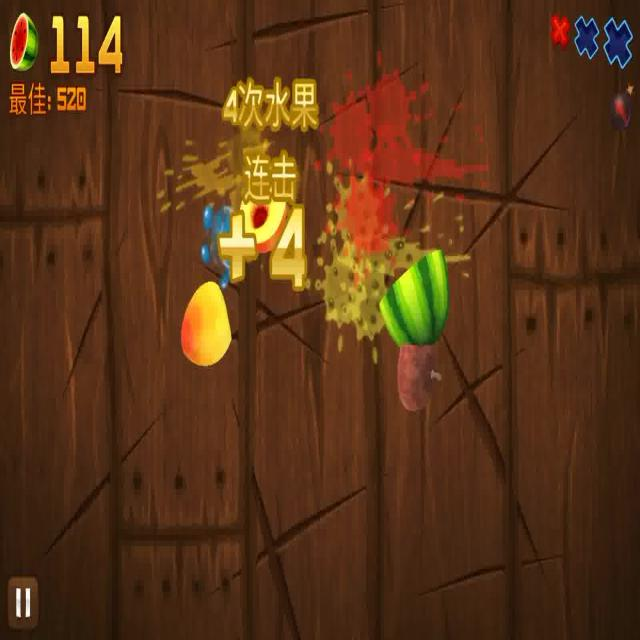fruit: (374, 251, 454, 345), (179, 276, 234, 368), (234, 192, 296, 246), (394, 344, 435, 413)
